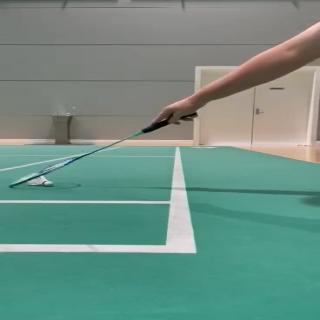Shuttle: (27, 174, 53, 186)
